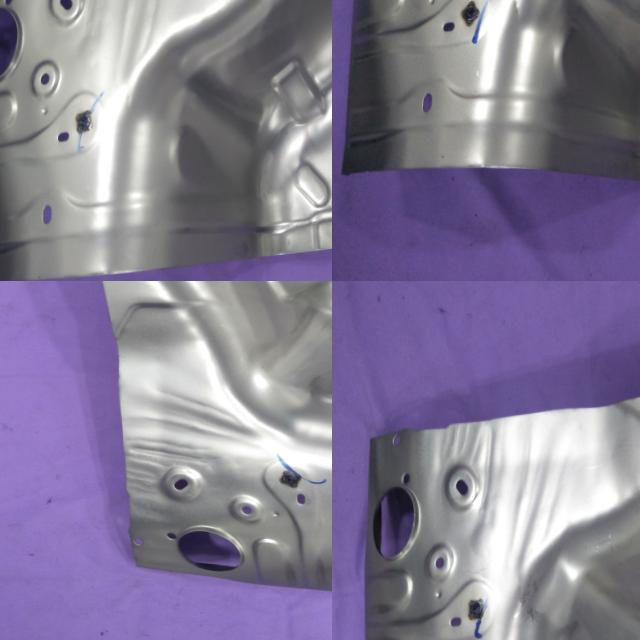Healthy: (0, 0, 332, 281), (76, 281, 332, 608), (356, 348, 640, 640), (333, 0, 640, 189)
